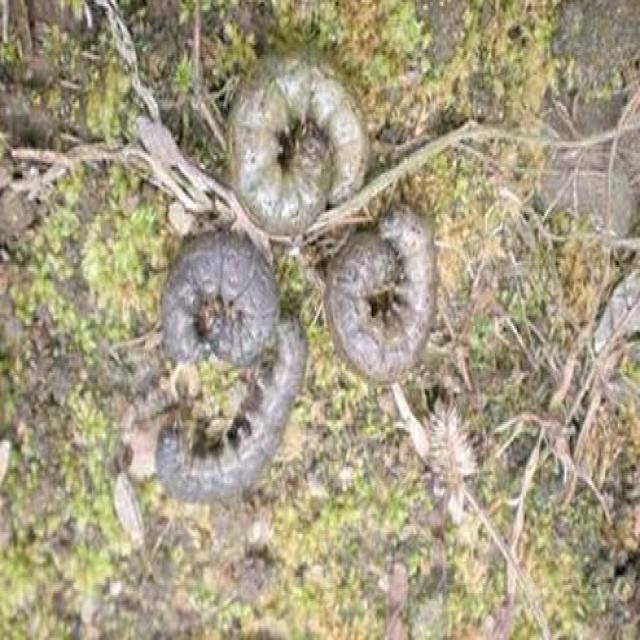black cutworm: (153, 306, 310, 518), (212, 49, 369, 232), (325, 210, 441, 381), (151, 228, 279, 371)
